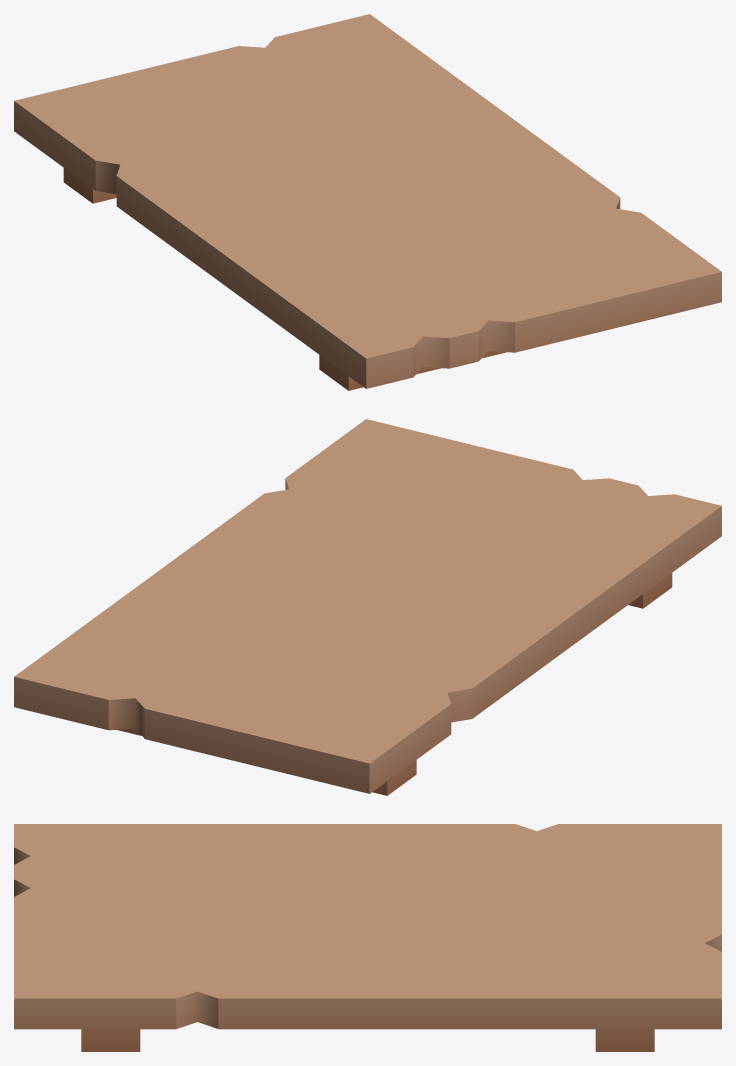
File: cutting-board-japanese.glb
3 views of the same model, one above another, from view 1: azimuth 30°, elevation 25°; view 2: azimuth 150°, elevation 25°; view 3: azimuth 270°, elevation 25° (orthographic).
Visible parts, largest first — view 1: cutting-board-japanese; view 2: cutting-board-japanese; view 3: cutting-board-japanese.
Part boxes in pixels (bbox=[...]): cutting-board-japanese: bbox=[14, 14, 721, 390]; cutting-board-japanese: bbox=[14, 419, 721, 795]; cutting-board-japanese: bbox=[14, 824, 721, 1051].
Size of the model in its own units: 0.49 by 0.08 by 0.84.
